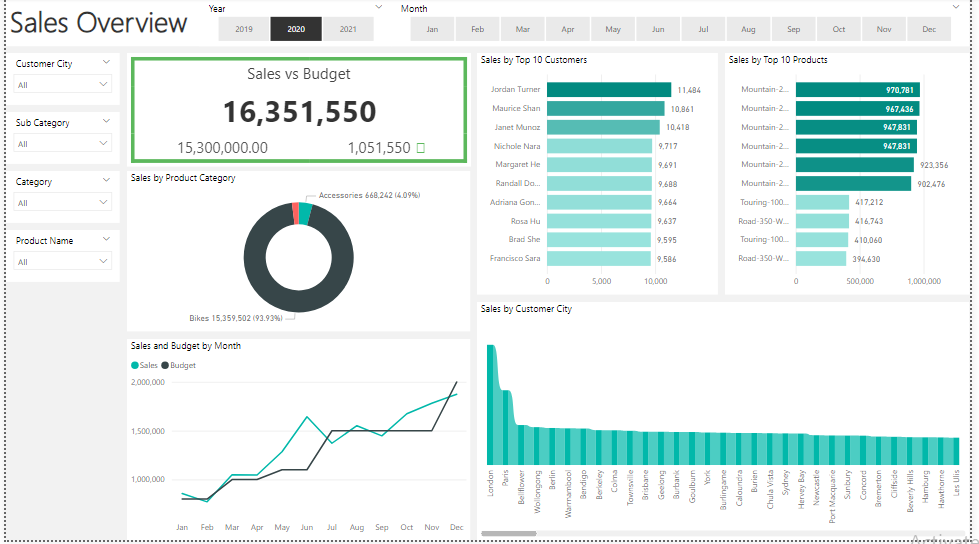

The page's visual inventory and layout, read from the dashboard file:
{"tool":"powerbi","page":{"name":"Sales Overview","canvas":[1280,720],"ordinal":0},"visuals":[{"type":"textbox","box":[0,0,1280,64],"z":0},{"type":"slicer","fields":{"Values":["DIM_Calendar.Year"]},"box":[256,0,256,64],"z":1000},{"type":"slicer","fields":{"Values":["DIM_Calendar.MonthShort"]},"box":[512,0,768,64],"z":2000},{"type":"slicer","fields":{"Values":["DIM_Customers.Customer City"]},"box":[0,73,150.5,69.3],"z":3000},{"type":"slicer","fields":{"Values":["DIM_Products.Product Category"]},"box":[0,229.9,150.5,69.3],"z":4000},{"type":"slicer","fields":{"Values":["DIM_Products.Product Name"]},"box":[0,308.4,150.5,69.3],"z":5000},{"type":"slicer","fields":{"Values":["DIM_Products.Sub Category"]},"box":[0,151.4,150.5,69.3],"z":6000},{"type":"barChart","title":"Sales by Top 10 Products","fields":{"Category":["DIM_Products.Product Name"],"Y":["Analysis Metrics.Sales"]},"box":[955.2,73,324.8,321.1],"z":7000},{"type":"lineChart","fields":{"Category":["DIM_Calendar.MonthShort"],"Y":["Analysis Metrics.Sales","Analysis Metrics.Budget"]},"box":[160.7,452.8,456.3,267.2],"z":8000},{"type":"barChart","title":"Sales by Top 10 Customers","fields":{"Category":["DIM_Customers.Full Name"],"Y":["Analysis Metrics.Sales"]},"box":[625.9,73,320.2,321.1],"z":9000},{"type":"donutChart","fields":{"Y":["Analysis Metrics.Sales"],"Series":["DIM_Products.Product Category"]},"box":[160.6,229.9,456.2,213.5],"z":10000},{"type":"ribbonChart","fields":{"Category":["DIM_Customers.Customer City"],"Y":["Analysis Metrics.Sales"]},"box":[625.9,403.3,654.1,316.6],"z":12000},{"type":"BBED0A4D4D8D44CE93CF2DAFADEE466C","fields":{"actual":["Analysis Metrics.Sales"],"target2":["Analysis Metrics.Sales / Budget"],"target1":["Analysis Metrics.Budget"]},"box":[160.5,73.4,456.6,151.3],"z":13001}]}

Visuals, with their boxes in screenshot pixels (x1, y1, x2, y2), scaled from the page's 1280x720 canvas onto the 979x544 screenshot:
textbox: {"x1": 0, "y1": 0, "x2": 978, "y2": 48}
slicer - DIM_Calendar.Year: {"x1": 196, "y1": 0, "x2": 392, "y2": 48}
slicer - DIM_Calendar.MonthShort: {"x1": 392, "y1": 0, "x2": 978, "y2": 48}
slicer - DIM_Customers.Customer City: {"x1": 0, "y1": 55, "x2": 115, "y2": 108}
slicer - DIM_Products.Product Category: {"x1": 0, "y1": 174, "x2": 115, "y2": 226}
slicer - DIM_Products.Product Name: {"x1": 0, "y1": 233, "x2": 115, "y2": 285}
slicer - DIM_Products.Sub Category: {"x1": 0, "y1": 114, "x2": 115, "y2": 167}
"Sales by Top 10 Products" barChart: {"x1": 731, "y1": 55, "x2": 978, "y2": 298}
lineChart - DIM_Calendar.MonthShort x Analysis Metrics.Sales: {"x1": 123, "y1": 342, "x2": 472, "y2": 543}
"Sales by Top 10 Customers" barChart: {"x1": 479, "y1": 55, "x2": 724, "y2": 298}
donutChart - Analysis Metrics.Sales x DIM_Products.Product Category: {"x1": 123, "y1": 174, "x2": 472, "y2": 335}
ribbonChart - DIM_Customers.Customer City x Analysis Metrics.Sales: {"x1": 479, "y1": 305, "x2": 978, "y2": 543}
BBED0A4D4D8D44CE93CF2DAFADEE466C - Analysis Metrics.Sales x Analysis Metrics.Sales / Budget: {"x1": 123, "y1": 55, "x2": 472, "y2": 170}
